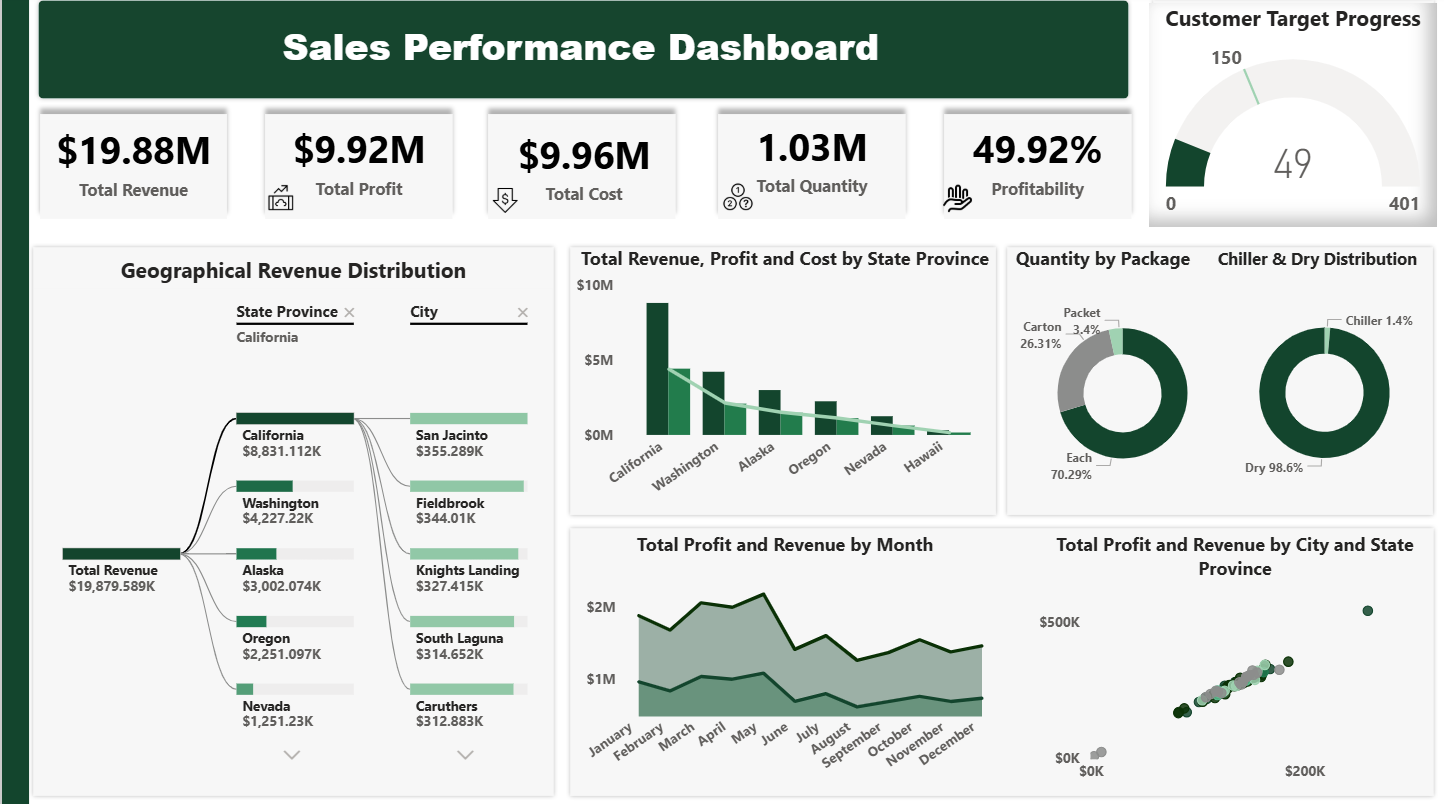

The page's visual inventory and layout, read from the dashboard file:
{"tool":"powerbi","page":{"name":"Page 6","canvas":[1280,720],"ordinal":8},"visuals":[{"type":"image","box":[28,153,40,47],"z":0},{"type":"shape","box":[28.4,0,974.5,94.9],"z":1000},{"type":"shape","box":[24.8,95.8,183.5,110.8],"z":2000},{"type":"shape","box":[1017,0,256.3,204.8],"z":3000},{"type":"shape","box":[24,219,469,494],"z":4000},{"type":"shape","box":[888,219,385,245],"z":5000},{"type":"shape","box":[224,96,184,111],"z":6000},{"type":"shape","box":[422,96,184,111],"z":7000},{"type":"shape","box":[626,96,184,111],"z":8000},{"type":"shape","box":[826,96,184,111],"z":9000},{"type":"shape","box":[500,468,773,245],"z":10000},{"type":"shape","box":[500,219,385,245],"z":11000},{"type":"gauge","title":"Customer Target Progress","fields":{"MaxValue":["Measures Table.Total Customers"],"Y":["Measures Table.Active Customers"],"TargetValue":["Measures Table.Target"]},"box":[1017,6.2,255.4,198.6],"z":12000},{"type":"decompositionTreeVisual","title":"Geographical Revenue Distribution","fields":{"Analyze":["Measures Table.Total Revenue"],"ExplainBy":["DimCity.State Province","DimCity.City"]},"box":[24,230,469,483],"z":13000},{"type":"textbox","title":"Super Store Analysis Dashboard","box":[24.4,0,978.6,86.4],"z":14000},{"type":"areaChart","title":"Total Profit and Revenue by Month","fields":{"Y":["Measures Table.Total Profit","Measures Table.Total Revenue"],"Category":["DimDate.Date.Variation.Date Hierarchy.Year","DimDate.Date.Variation.Date Hierarchy.Quarter","DimDate.Date.Variation.Date Hierarchy.Month","DimDate.Date.Variation.Date Hierarchy.Day"]},"box":[503.6,475.3,381.3,230.5],"z":15000},{"type":"card","fields":{"Values":["Measures Table.Total Revenue"]},"box":[24.8,95.8,183.5,101.1],"z":16000},{"type":"card","fields":{"Values":["Measures Table.Total Profit"]},"box":[224.3,95.8,184.4,99.3],"z":17000},{"type":"card","fields":{"Values":["Measures Table.Total Cost"]},"box":[425.6,95.8,180.9,109.1],"z":18000},{"type":"lineClusteredColumnComboChart","title":"Total Revenue, Profit and Cost by State Province","fields":{"Category":["DimCity.State Province"],"Y":["Measures Table.Total Revenue","Measures Table.Total Profit"],"Y2":["Measures Table.Total Cost"]},"box":[503.6,221.7,381.3,238.5],"z":19000},{"type":"donutChart","title":"Chiller & Dry Distribution","fields":{"Y":["Sum(FactSale.Total Chiller Items)","Sum(FactSale.Total Dry Items)"]},"box":[1072.9,222.6,199.5,238.5],"z":20000},{"type":"donutChart","title":"Quantity by Package","fields":{"Category":["DimStockItem.Buying Package"],"Y":["Measures Table.Total Quantity"]},"box":[893.8,221.7,199.5,240.3],"z":21000},{"type":"scatterChart","title":"Total Profit and Revenue by City and State Province","fields":{"Category":["DimCity.City"],"X":["Measures Table.Total Profit"],"Y":["Measures Table.Total Revenue"],"Series":["DimCity.State Province"]},"box":[914.2,475.3,358.2,230.5],"z":22000},{"type":"card","fields":{"Values":["Measures Table.Total Quantity"]},"box":[626,95.8,184.4,94.9],"z":23000},{"type":"card","fields":{"Values":["Measures Table.Profitability"]},"box":[826.4,95.8,183.5,99.3],"z":24000},{"type":"shape","title":"Shape1","box":[0,2.2,24.4,718.1],"z":25000},{"type":"image","box":[826.4,160.5,41.7,38.1],"z":26000},{"type":"image","box":[429,162,34,38],"z":27000},{"type":"image","box":[229.1,161.7,37.4,34.8],"z":28000},{"type":"image","box":[633,160,39,37],"z":29000}]}

Visuals, with their boxes in screenshot pixels (x1, y1, x2, y2), scaled from the page's 1280x720 canvas onto the 1444x804 screenshot:
image: <bbox>32, 171, 77, 223</bbox>
shape: <bbox>32, 0, 1131, 106</bbox>
shape: <bbox>28, 107, 235, 231</bbox>
shape: <bbox>1147, 0, 1436, 229</bbox>
shape: <bbox>27, 245, 556, 796</bbox>
shape: <bbox>1002, 245, 1436, 518</bbox>
shape: <bbox>253, 107, 460, 231</bbox>
shape: <bbox>476, 107, 684, 231</bbox>
shape: <bbox>706, 107, 914, 231</bbox>
shape: <bbox>932, 107, 1139, 231</bbox>
shape: <bbox>564, 523, 1436, 796</bbox>
shape: <bbox>564, 245, 998, 518</bbox>
"Customer Target Progress" gauge: <bbox>1147, 7, 1435, 229</bbox>
"Geographical Revenue Distribution" decompositionTreeVisual: <bbox>27, 257, 556, 796</bbox>
"Super Store Analysis Dashboard" textbox: <bbox>28, 0, 1132, 96</bbox>
"Total Profit and Revenue by Month" areaChart: <bbox>568, 531, 998, 788</bbox>
card - Measures Table.Total Revenue: <bbox>28, 107, 235, 220</bbox>
card - Measures Table.Total Profit: <bbox>253, 107, 461, 218</bbox>
card - Measures Table.Total Cost: <bbox>480, 107, 684, 229</bbox>
"Total Revenue, Profit and Cost by State Province" lineClusteredColumnComboChart: <bbox>568, 248, 998, 514</bbox>
"Chiller & Dry Distribution" donutChart: <bbox>1210, 249, 1435, 515</bbox>
"Quantity by Package" donutChart: <bbox>1008, 248, 1233, 516</bbox>
"Total Profit and Revenue by City and State Province" scatterChart: <bbox>1031, 531, 1435, 788</bbox>
card - Measures Table.Total Quantity: <bbox>706, 107, 914, 213</bbox>
card - Measures Table.Profitability: <bbox>932, 107, 1139, 218</bbox>
"Shape1" shape: <bbox>0, 2, 28, 803</bbox>
image: <bbox>932, 179, 979, 222</bbox>
image: <bbox>484, 181, 522, 223</bbox>
image: <bbox>258, 181, 301, 219</bbox>
image: <bbox>714, 179, 758, 220</bbox>
